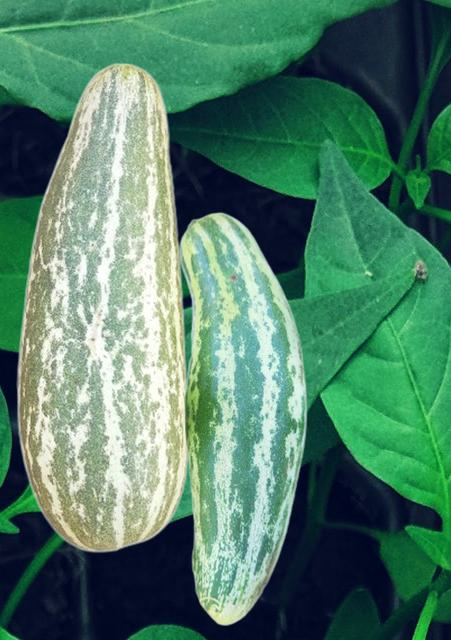cucumber: (16, 62, 188, 552), (178, 211, 306, 625)
